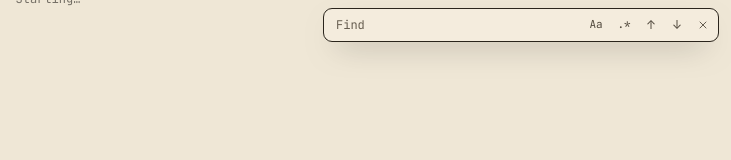
it: TerminalPane find (F16) › walks matches with Enter and Shift+Enter and honours the toggles
Type "x" into the field labelled "Find" at (422, 25), box [332, 13, 512, 37]
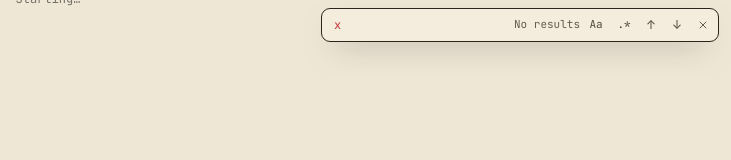
Click the button with aria-label "Match case" at (596, 25), box [584, 14, 608, 36]
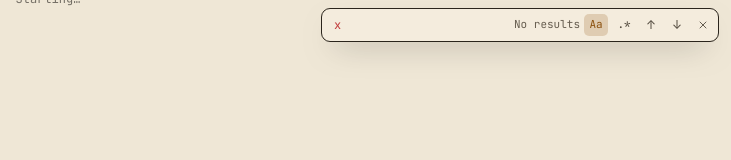
Click the button named "Regular expression" at (624, 25), box [612, 14, 636, 36]
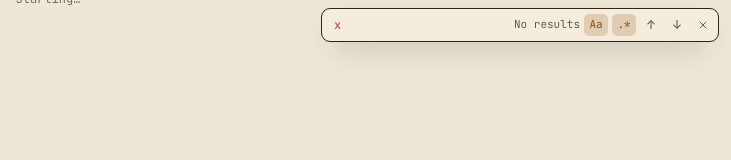
Press Enter in the field named "Find", box [330, 13, 510, 37]
Press Enter in the field named "Find", box [330, 13, 510, 37]
Replace the text in the field named "Find" with "(" at (420, 25), box [330, 13, 510, 37]
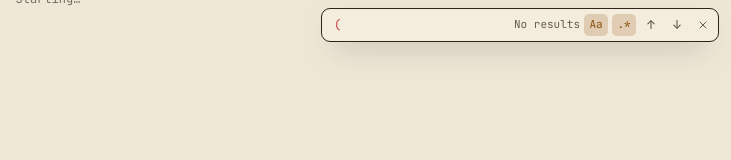
Press Enter in the field named "Find", box [330, 13, 510, 37]
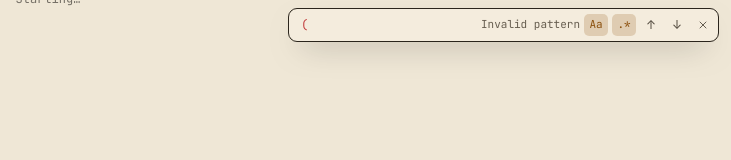
Now the text "Invalid pattern" is shown, box [481, 17, 580, 33]
